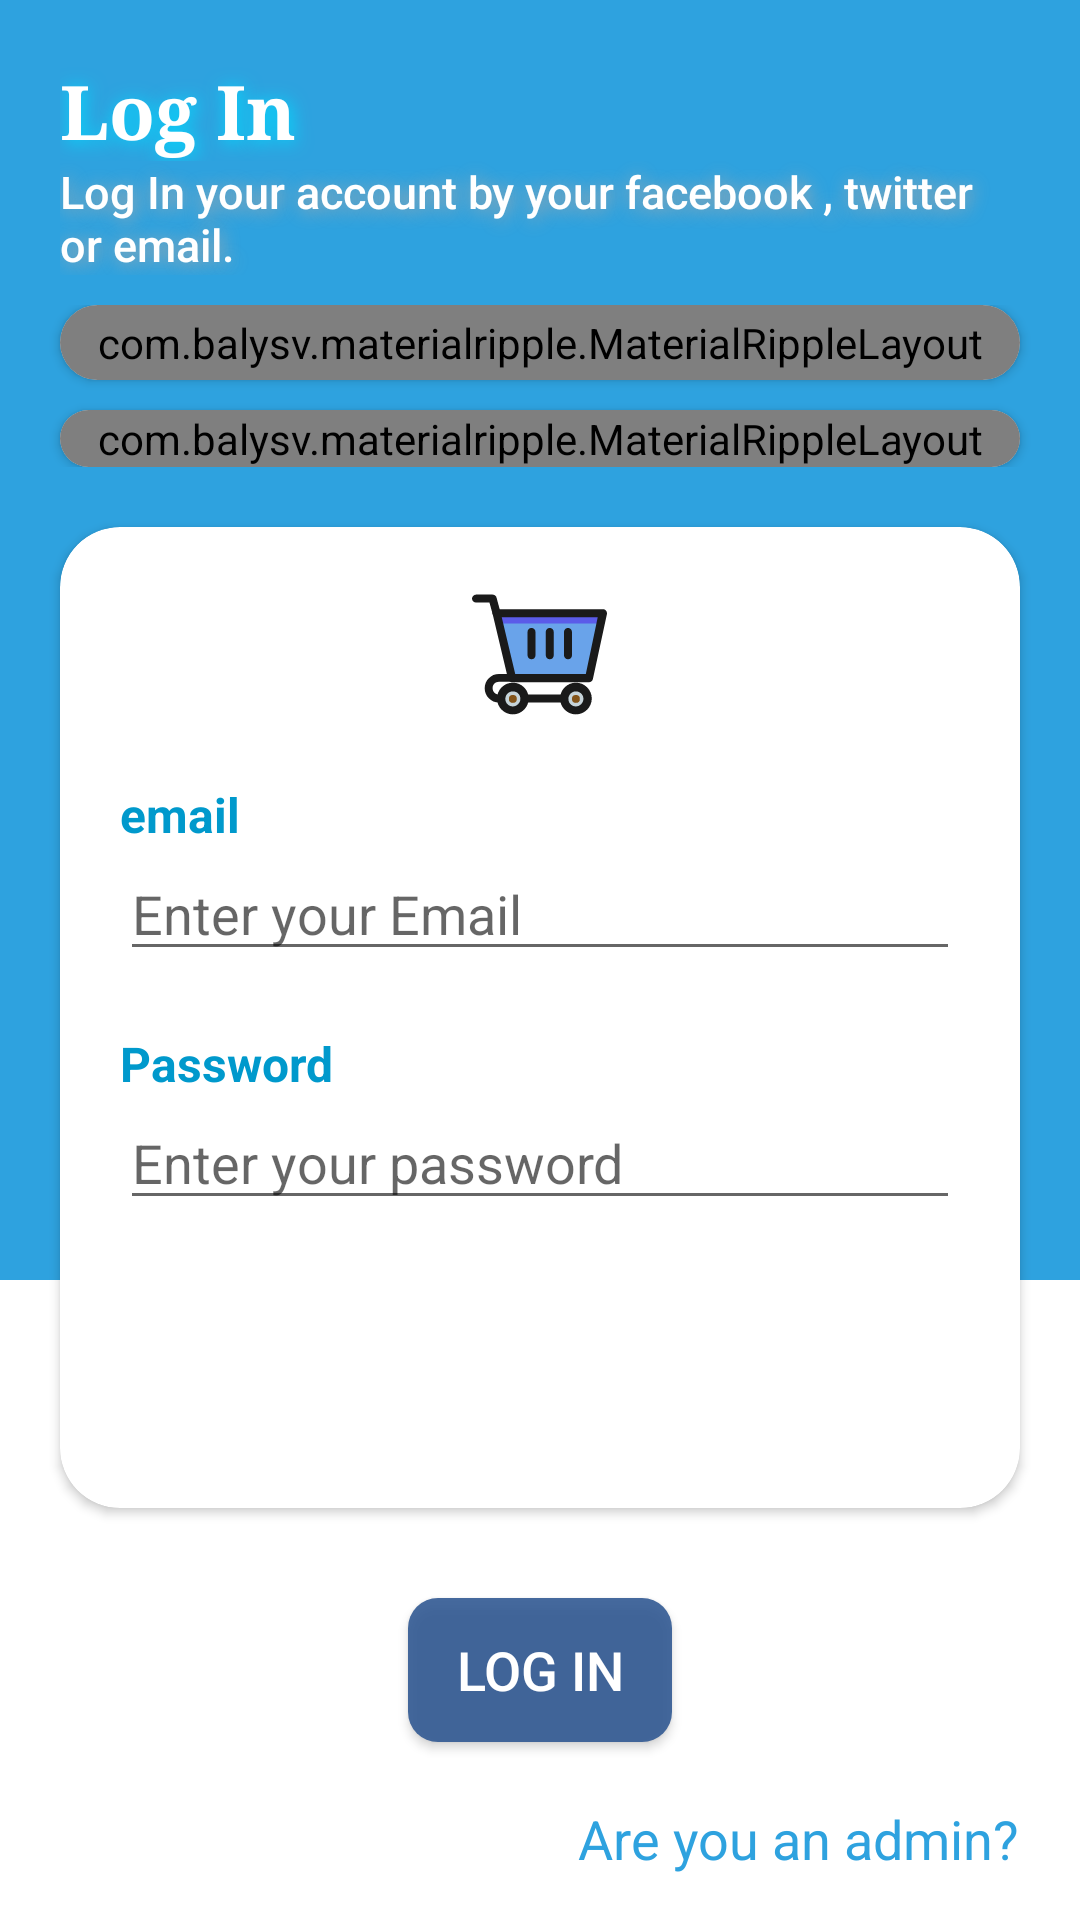

Icon bounding boxes for this 1080x1920 phone screenshot, format region(x1, y1, x2, y2):
shopping cart: region(472, 594, 607, 715)
